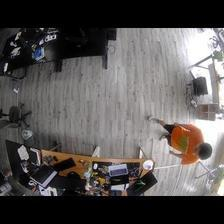normal: (146, 115, 211, 164)
